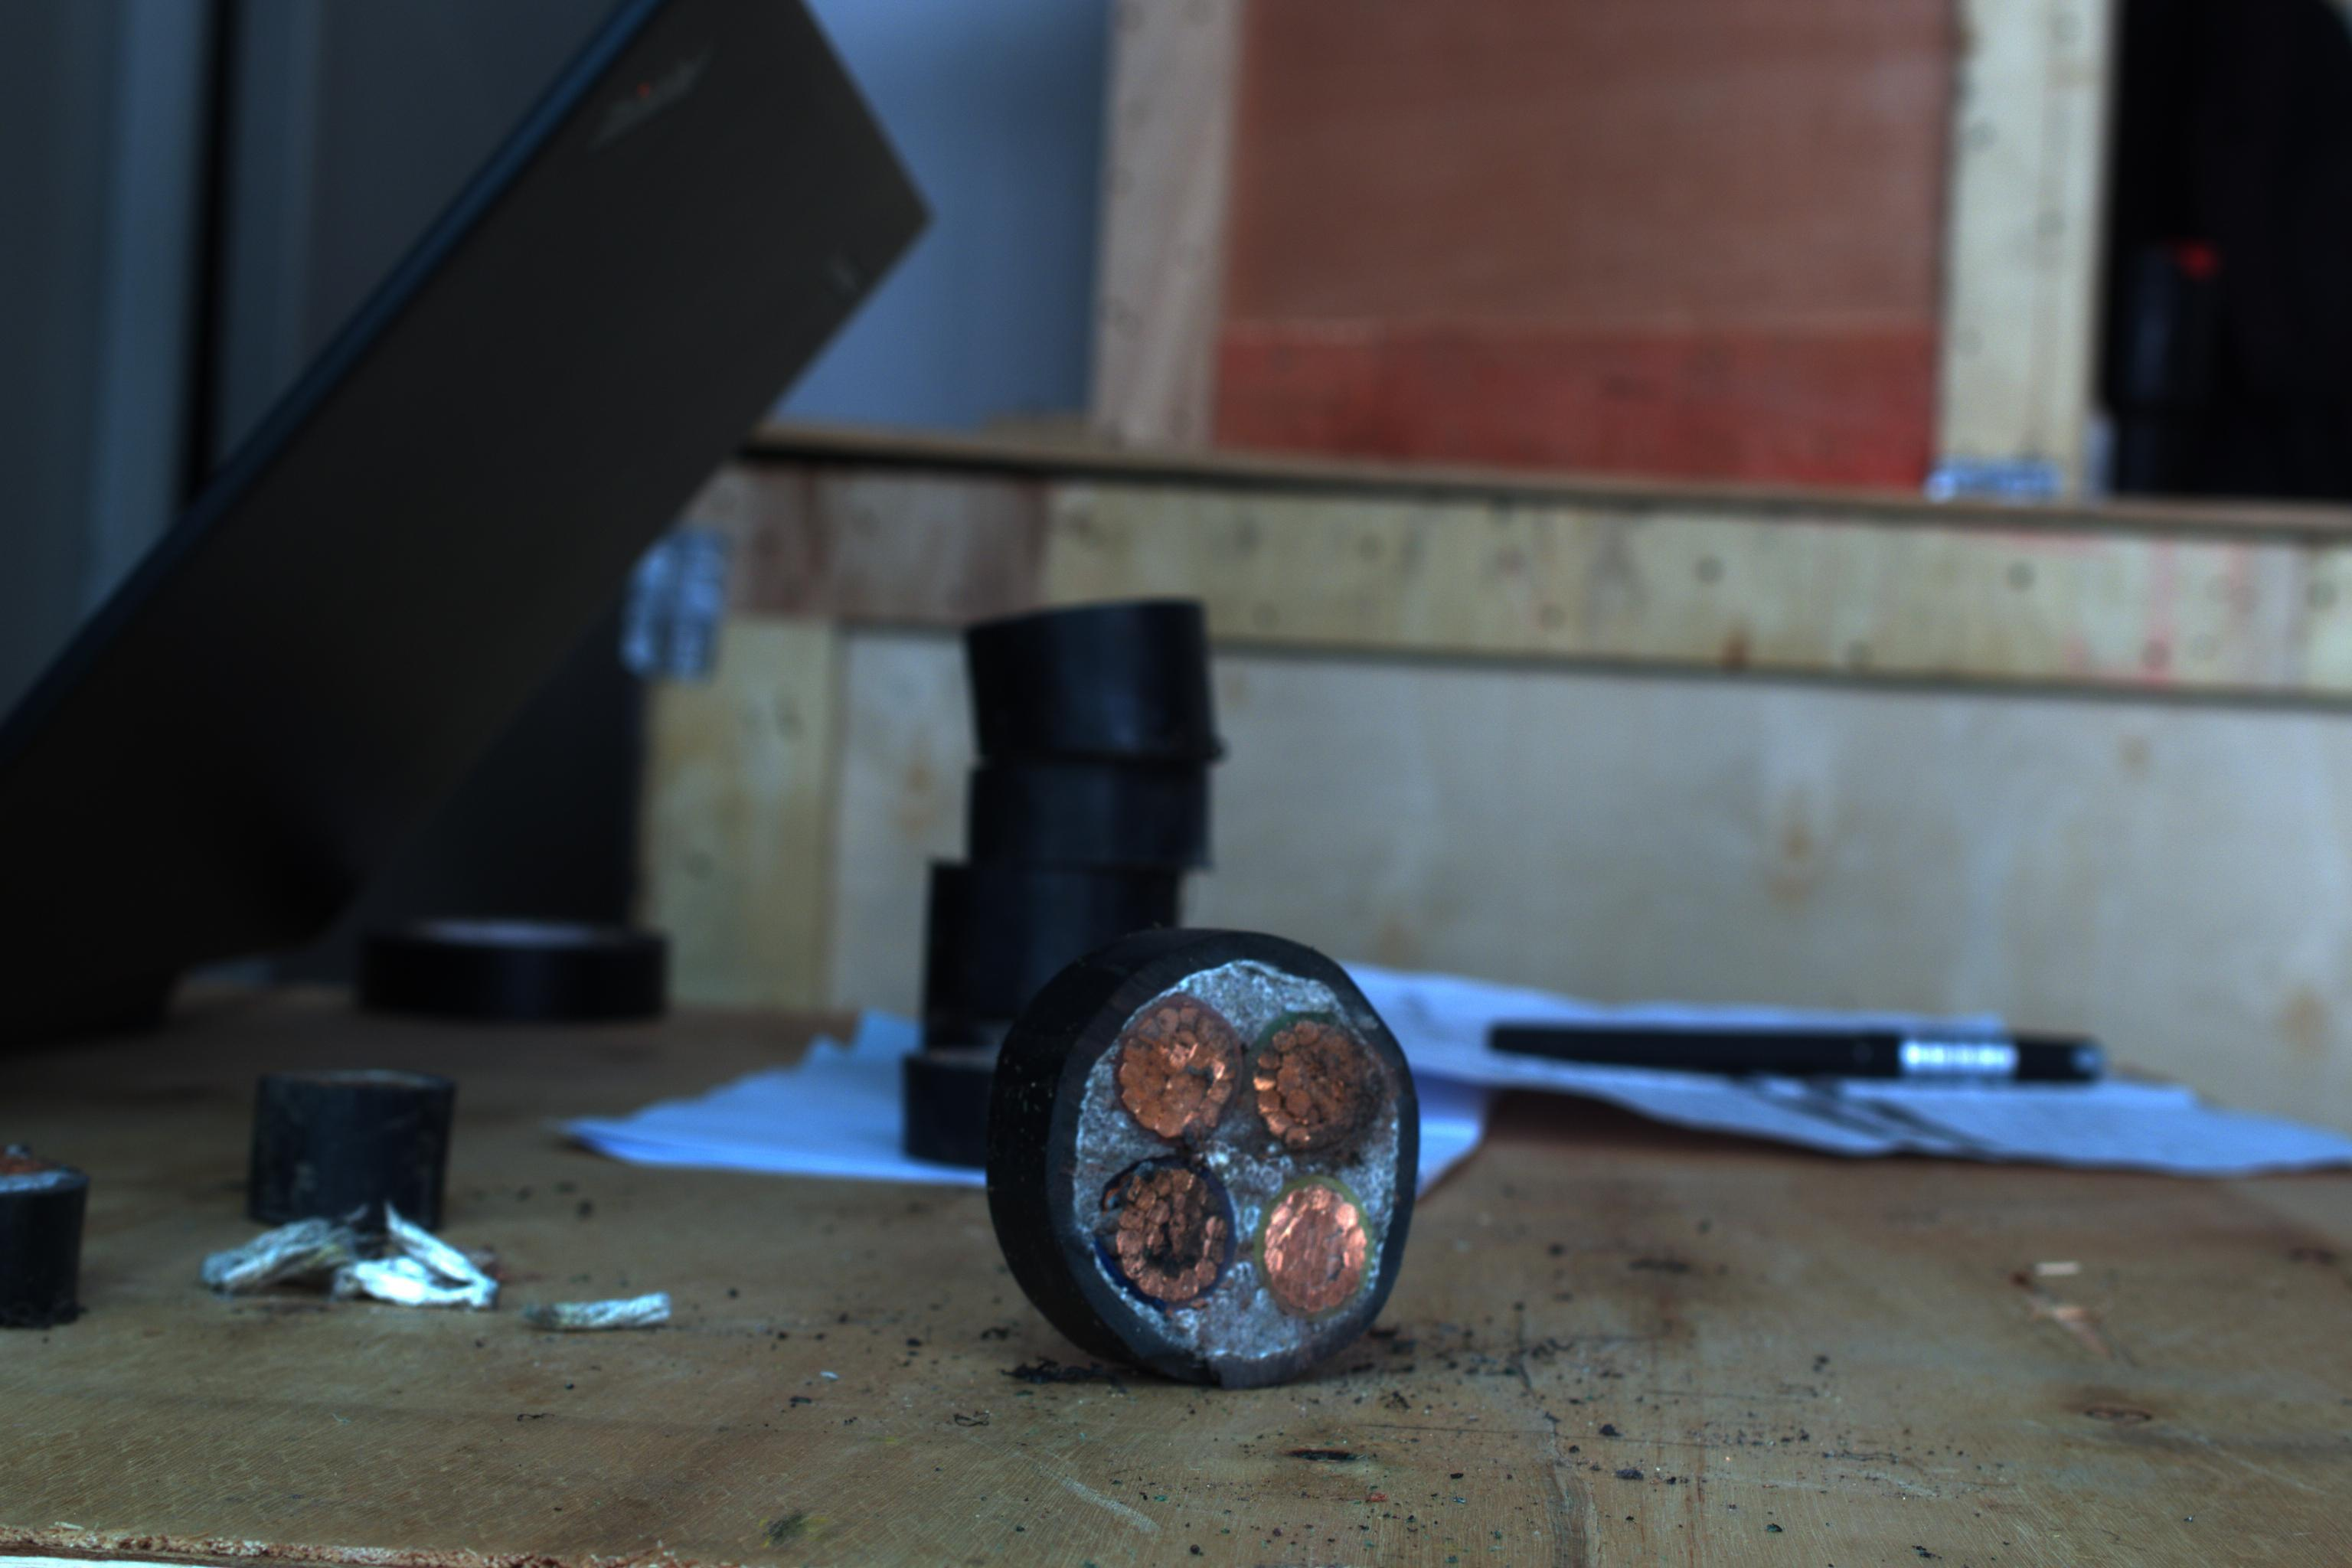YJV_0.6_1kV_4x120: (1013, 924, 1426, 1381)
